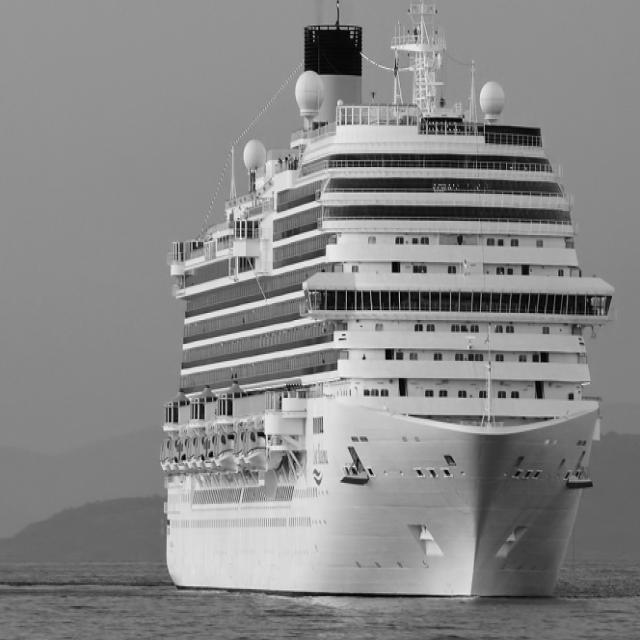cruises: (153, 1, 626, 624)
